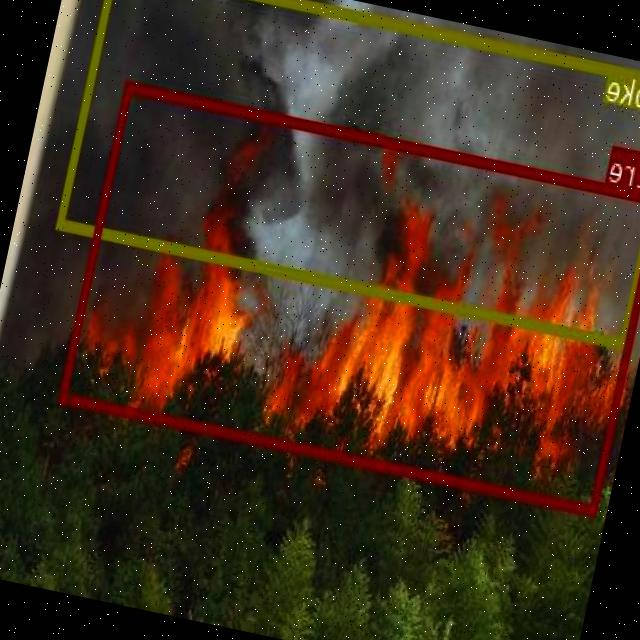fire: (59, 81, 640, 514)
smoke: (57, 0, 640, 347)
